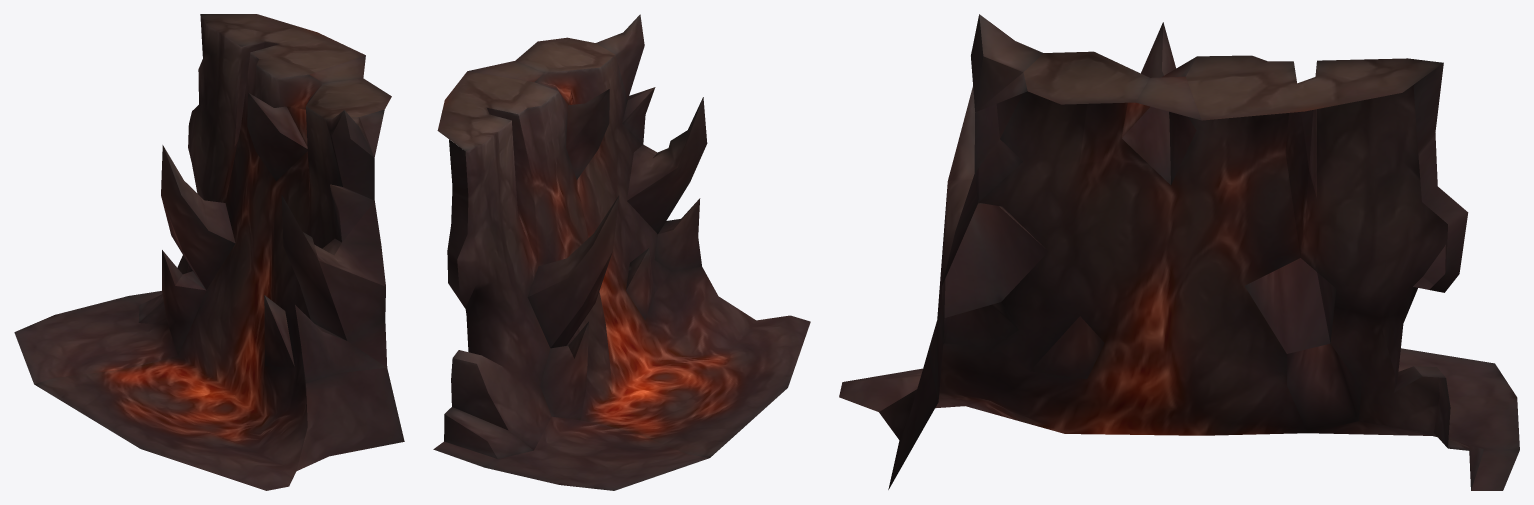
Rendered from 1005_Item_Stone_08.FBX.
3 renders of one model, left to right at view 1: azimuth 30°, elevation 25°; view 2: azimuth 150°, elevation 25°; view 3: azimuth 270°, elevation 25°, orthographic. The views are drawn at different scales.
Parts seen in each view (by area): view 1: 1005_Item_Stone_08; view 2: 1005_Item_Stone_08; view 3: 1005_Item_Stone_08.
Part boxes in pixels (x1,y1,x2,y2): 1005_Item_Stone_08: [14, 14, 404, 490]; 1005_Item_Stone_08: [433, 14, 810, 490]; 1005_Item_Stone_08: [839, 14, 1519, 490].
Bounding box in the file's own units: 4819 × 5034 × 6804.
